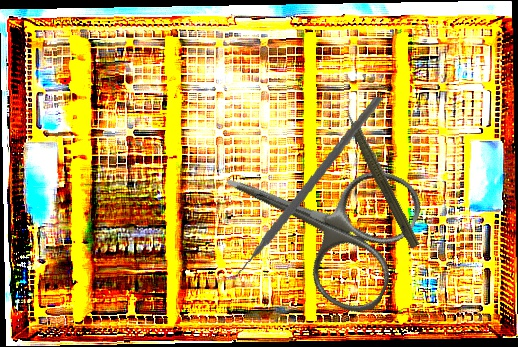Chopper: (213, 79, 385, 295)
Handpiece: (335, 97, 426, 251)
Iris Scissors: (199, 114, 430, 322)
